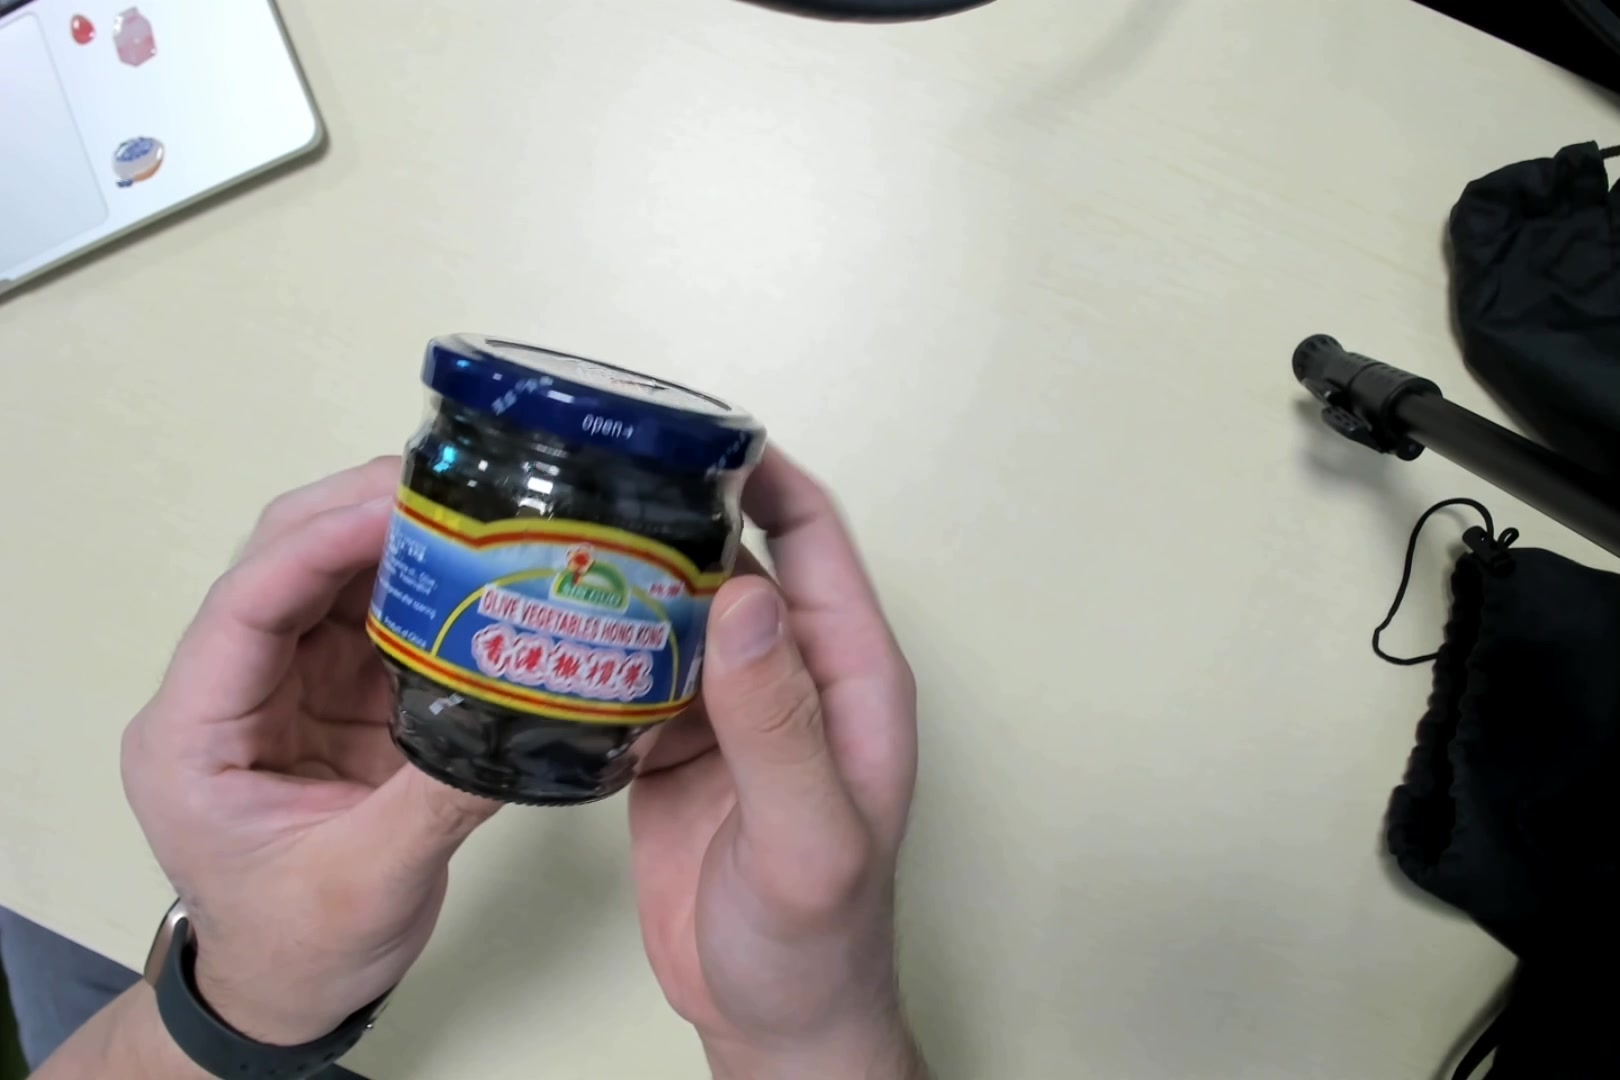OtherCannedVegetables_100-199g_Halal_NonHealthy: (376, 340, 762, 818)
